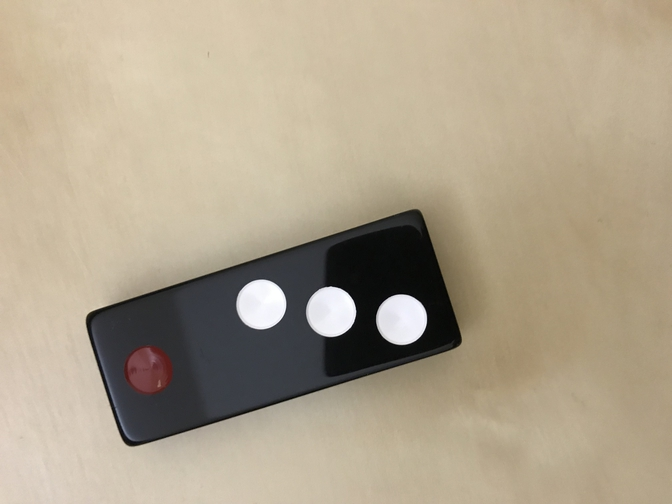goose: (84, 210, 463, 445)
